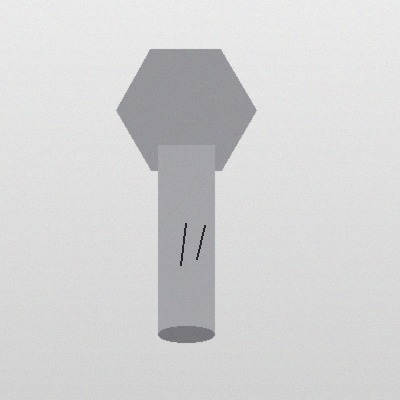scratch: (174, 219, 191, 269), (190, 221, 210, 263)
